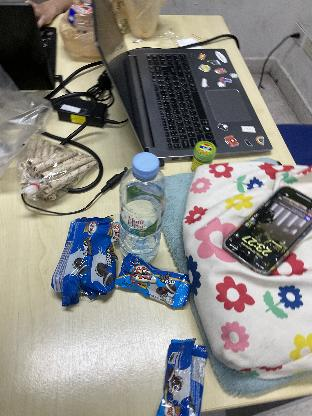Plastic Bag: (0, 62, 54, 178)
Plastic Bottle: (116, 150, 166, 266)
Plastic Packaging: (116, 251, 194, 309), (50, 213, 96, 311), (157, 336, 211, 416), (81, 214, 115, 308)
